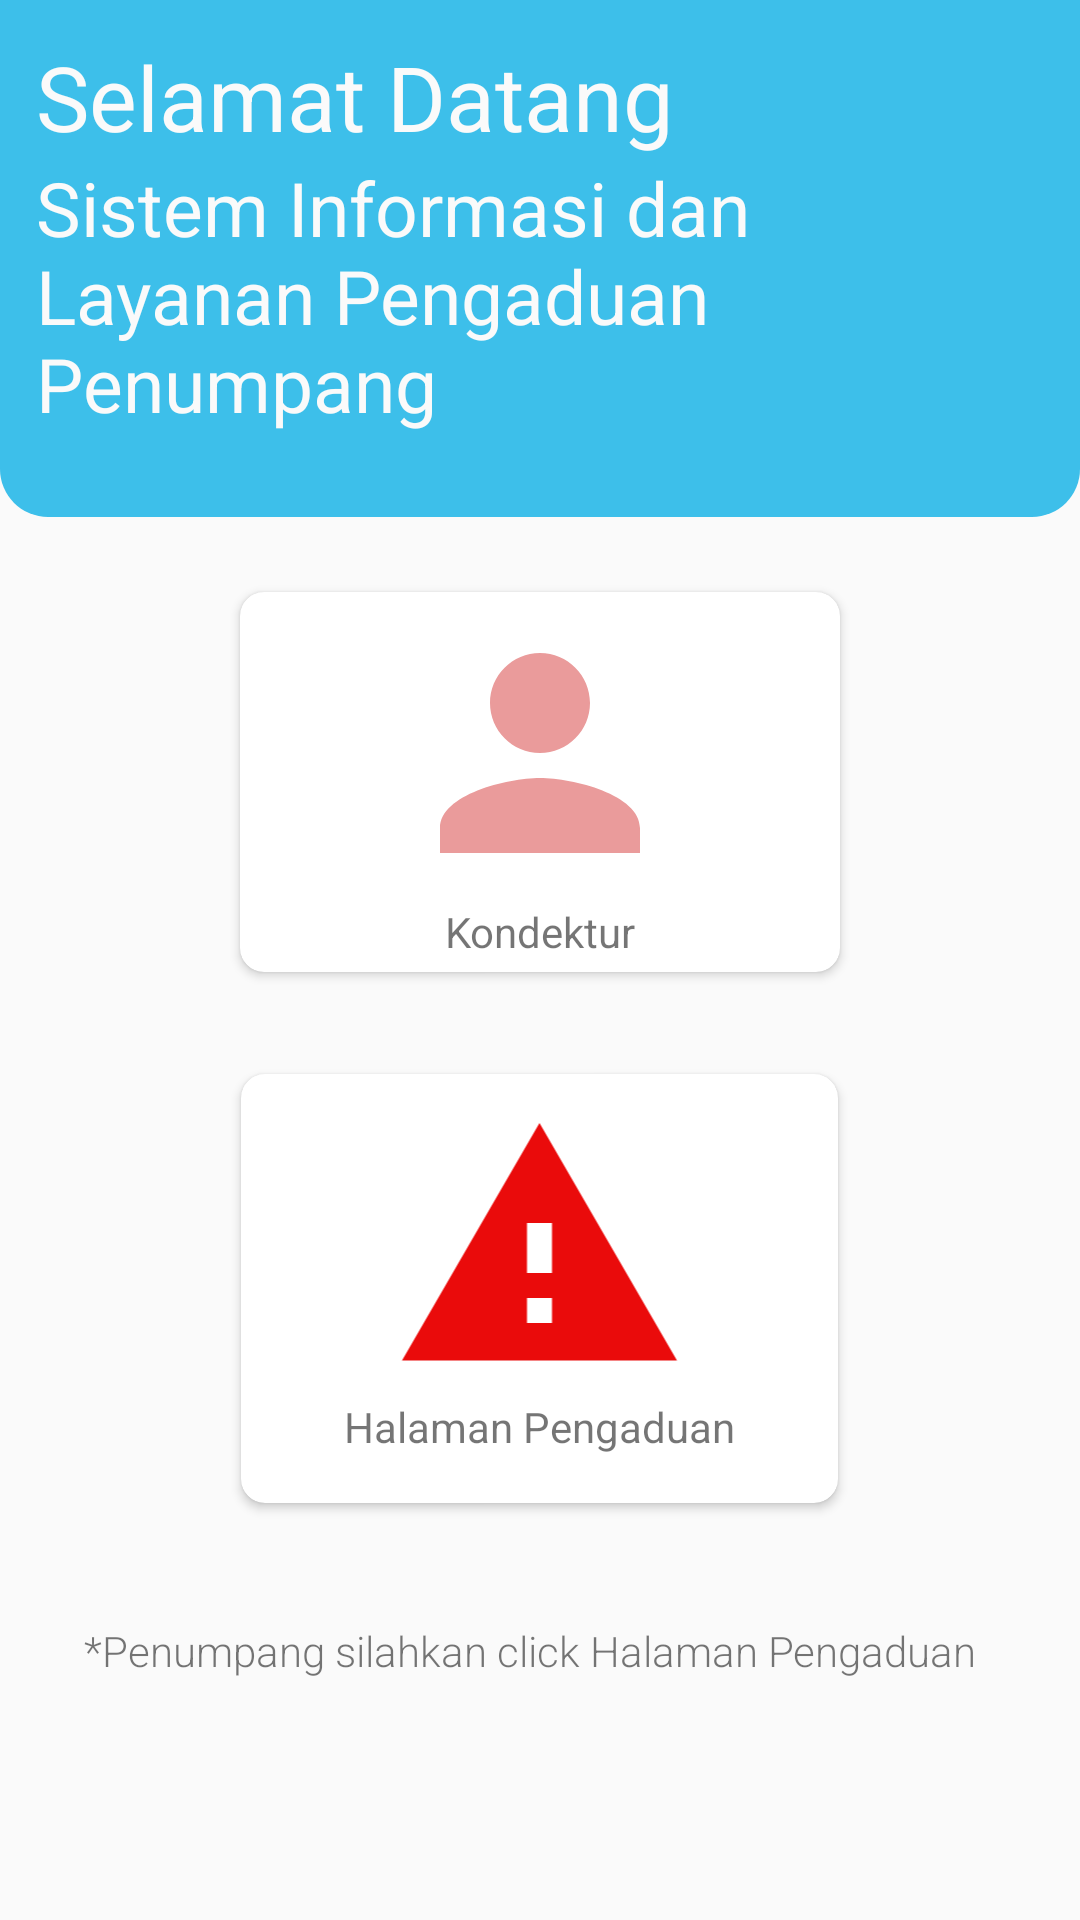

Screen size 1080px x 1920px. Icon name, then its box in pixels as (x1, y1, x2, y2):
person: (440, 653, 640, 853)
